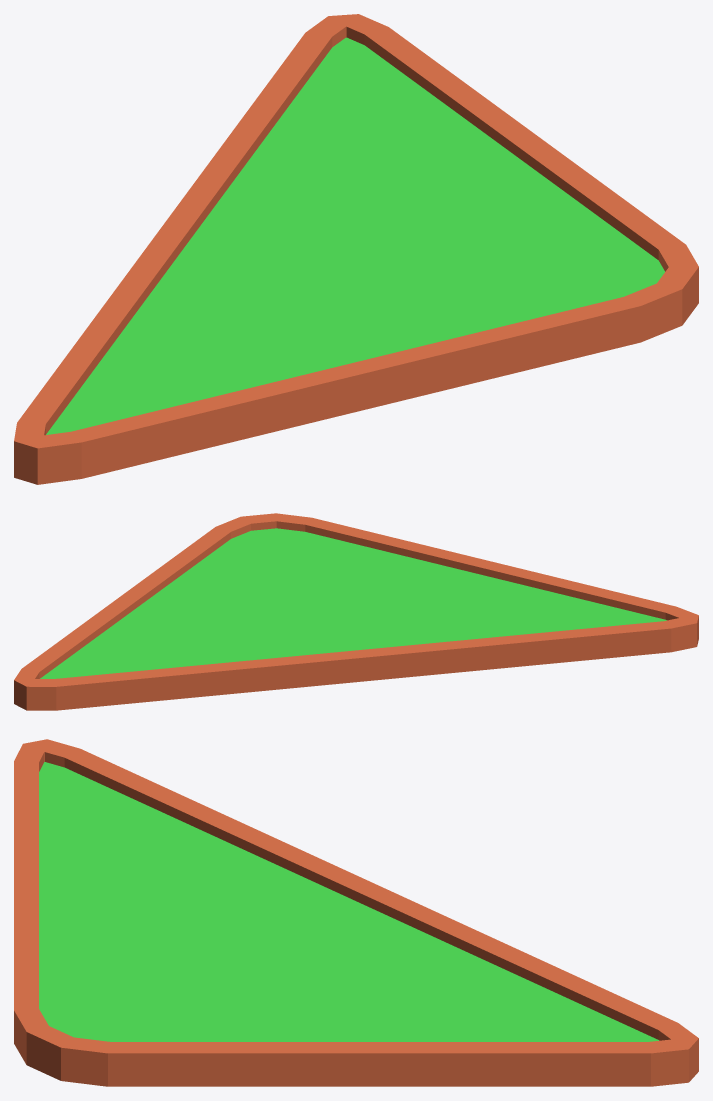
Rendered from jardinera1.glb.
3 renders of one model, top to bottom at view 1: azimuth 30°, elevation 25°; view 2: azimuth 150°, elevation 25°; view 3: azimuth 270°, elevation 25°, orthographic. The views are drawn at different scales.
Visible parts, largest first — view 1: Cube; view 2: Cube; view 3: Cube.
Part boxes in pixels (<box>): Cube: <box>14,14,698,484</box>; Cube: <box>14,513,698,710</box>; Cube: <box>14,739,698,1086</box>.
Bounding box in the file's own units: 69.45 × 3.43 × 63.98.
